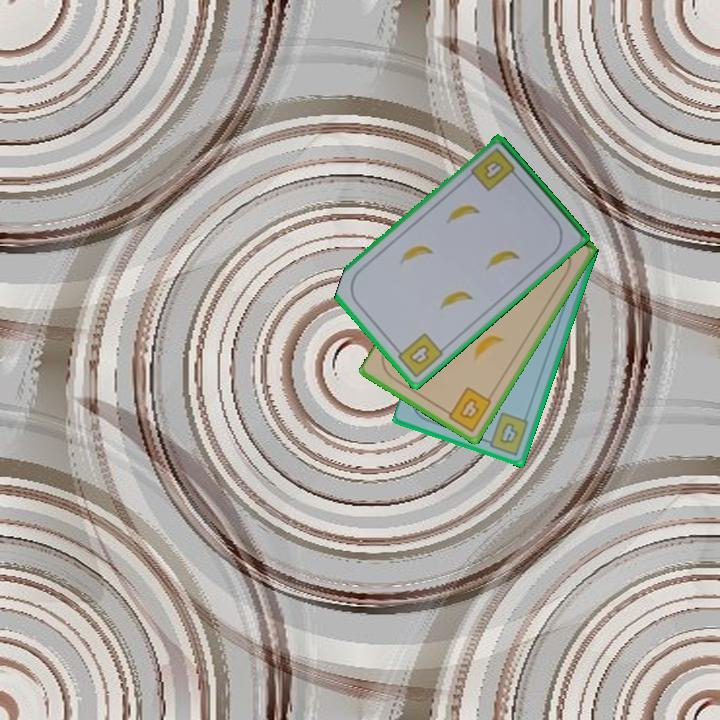4b: (440, 383, 495, 435), (391, 329, 446, 381), (480, 409, 532, 458), (480, 159, 504, 183)
